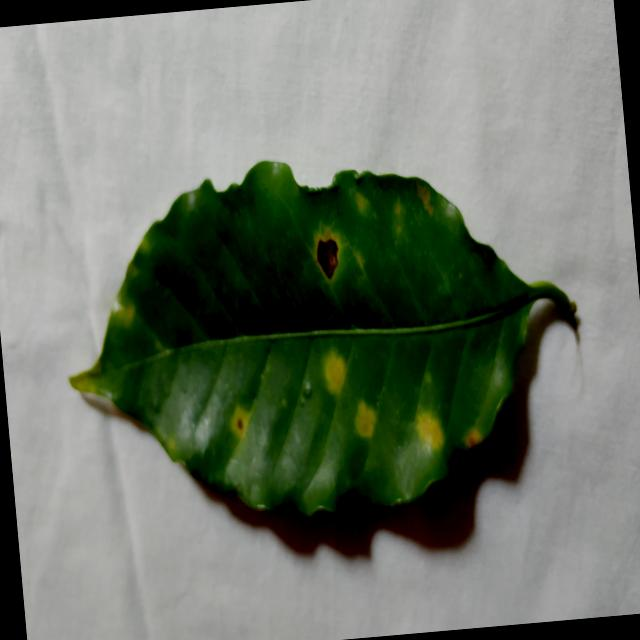KaratDaunKopi: (417, 412, 443, 449), (325, 351, 345, 394), (317, 239, 338, 279), (355, 400, 375, 437), (232, 406, 248, 438), (465, 429, 482, 447)
